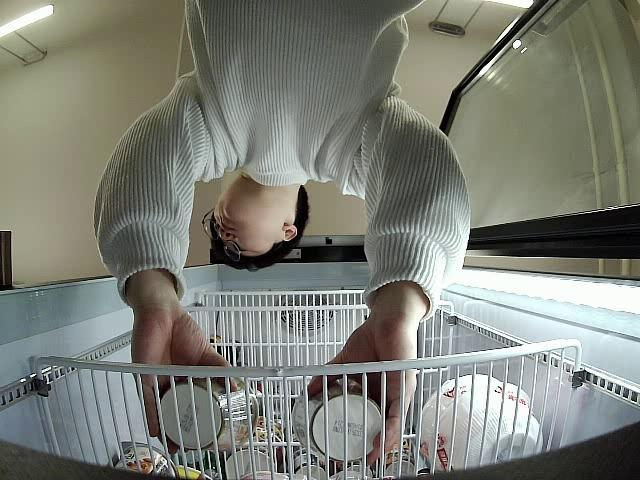04_chapagetti_S: (294, 378, 390, 462), (162, 371, 258, 454)
